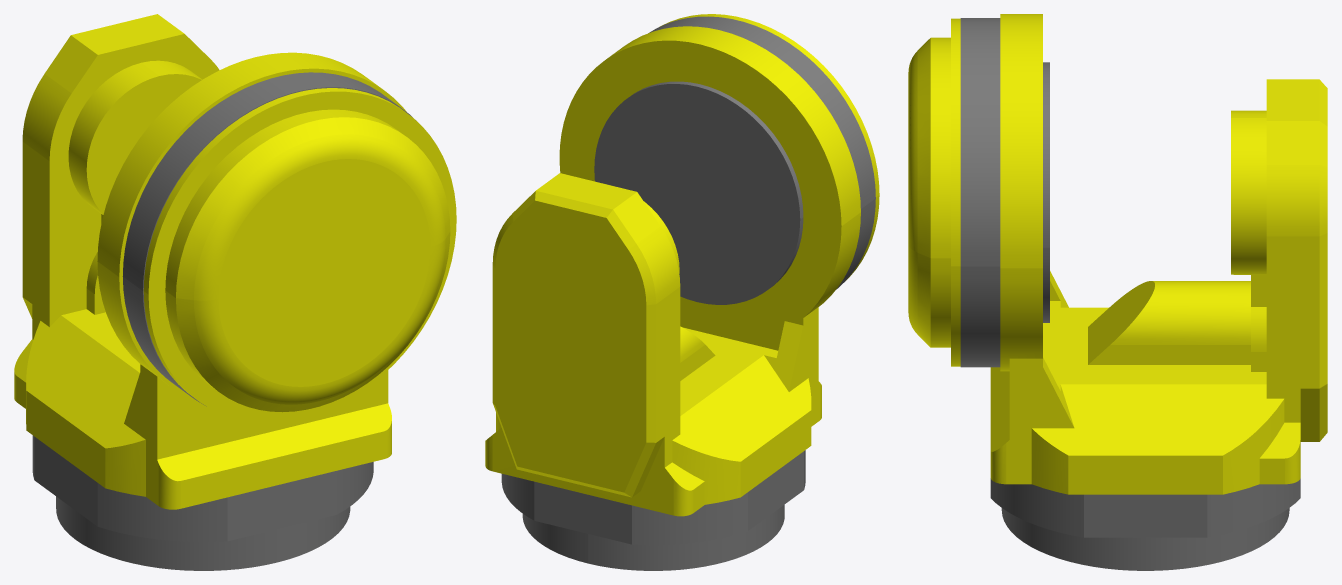
3 renders of one model, left to right at view 1: azimuth 30°, elevation 25°; view 2: azimuth 150°, elevation 25°; view 3: azimuth 270°, elevation 25°, orthographic. The views are drawn at different scales.
Visible parts, largest first — view 1: Mesh_0; view 2: Mesh_0; view 3: Mesh_0.
Part boxes in pixels (box(x1,y1,x2,y2)): Mesh_0: box(14, 14, 456, 570); Mesh_0: box(485, 14, 879, 570); Mesh_0: box(908, 14, 1327, 570).
Bounding box in the file's own units: 0.226 × 0.265 × 0.3345.
